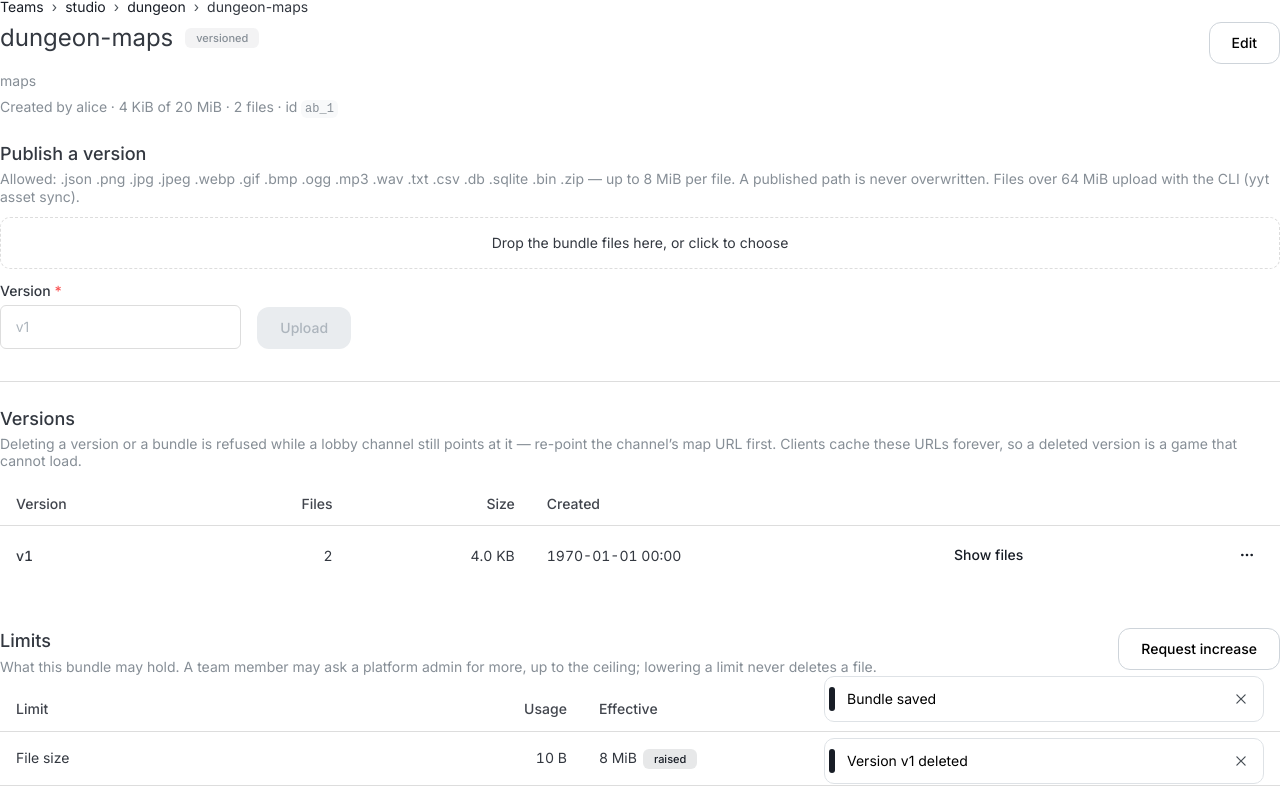
Test: AssetBundlePage › deletes the bundle from the drawer danger zone and returns to the project's assets
The width and height of the screenshot is (1280, 799).
Click the button "Edit".
click(1244, 43)  # box [1209,22,1279,64]
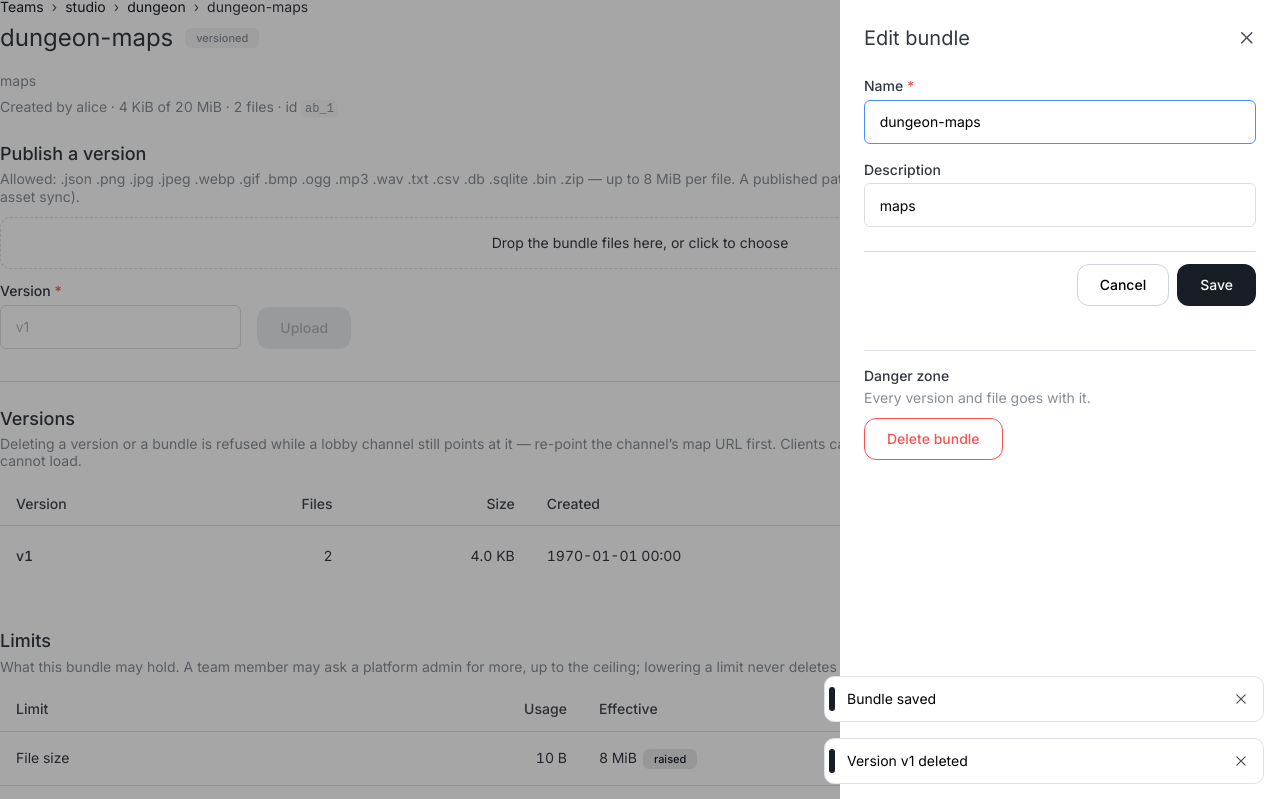
Click the button "Delete bundle".
click(933, 439)  # box [864,418,1003,460]
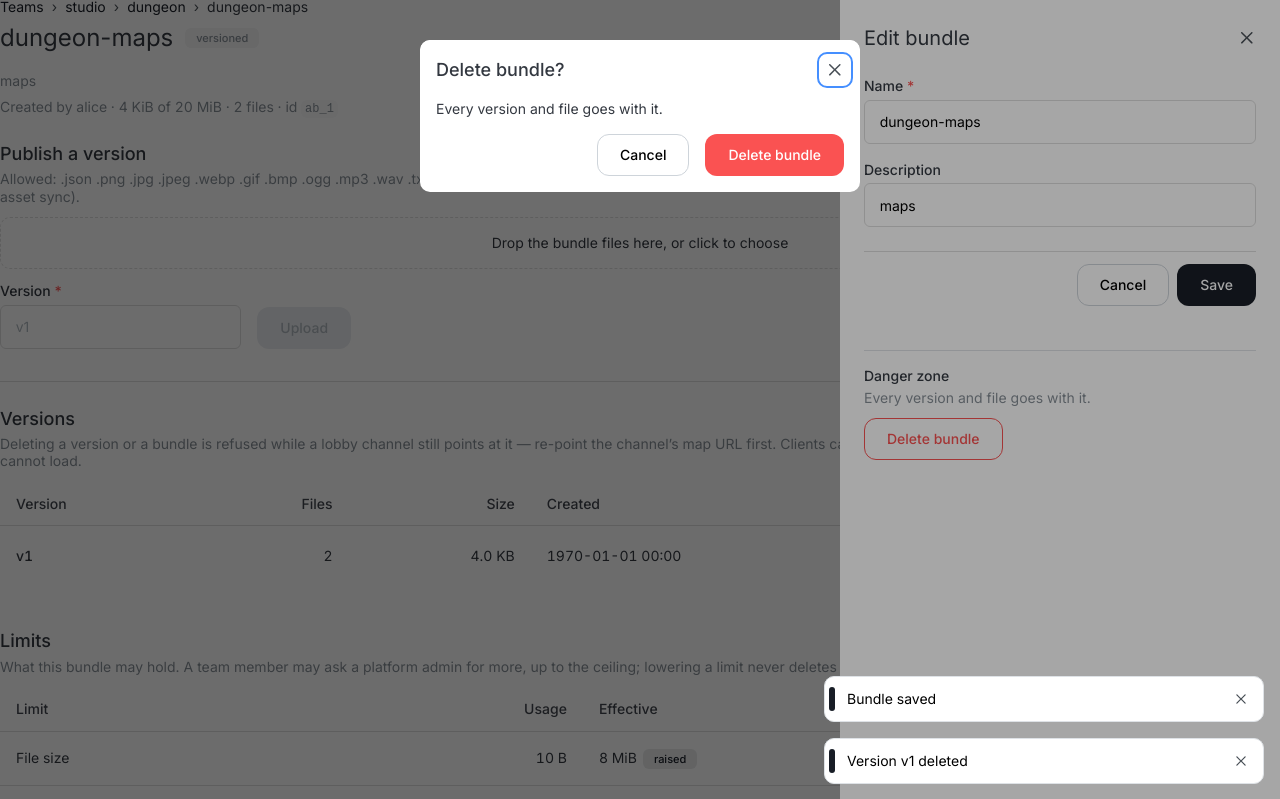
Click the button "Delete bundle".
click(775, 154)  # box [705,134,844,176]
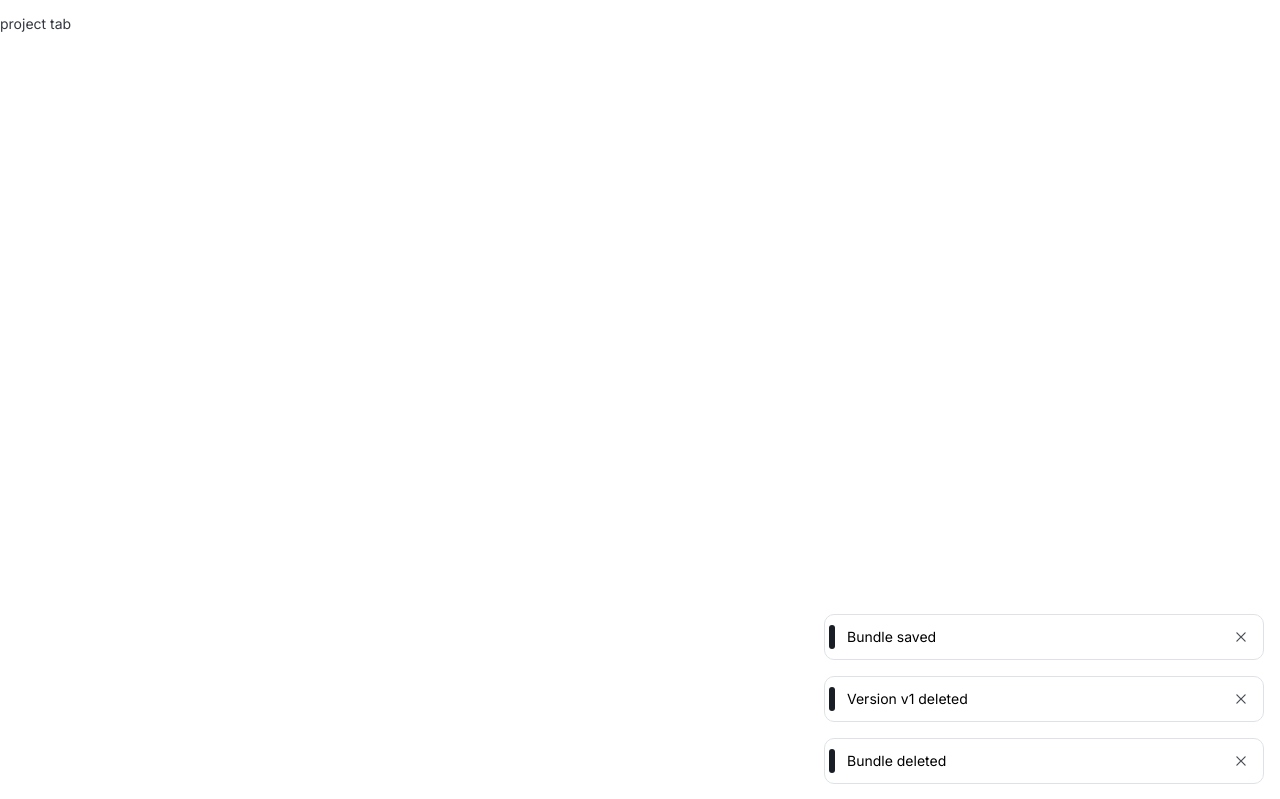
Now the text "project tab" is shown, box [0,15,71,32]
